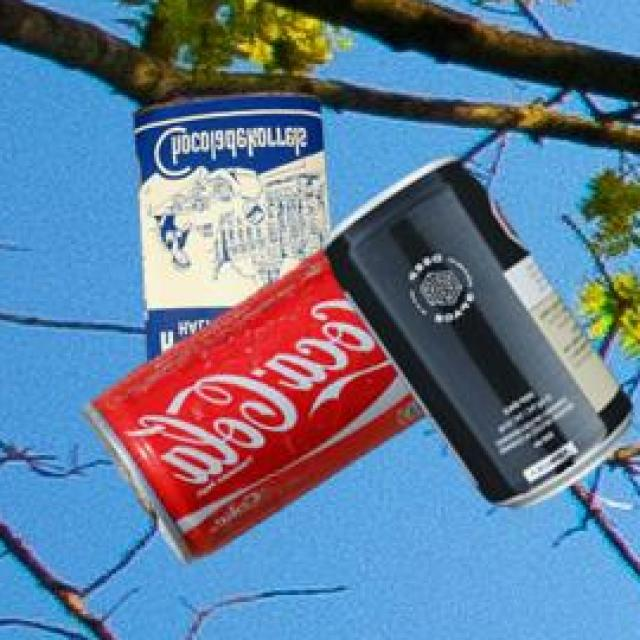logam: (324, 153, 636, 506), (89, 248, 430, 561), (136, 91, 333, 359)
